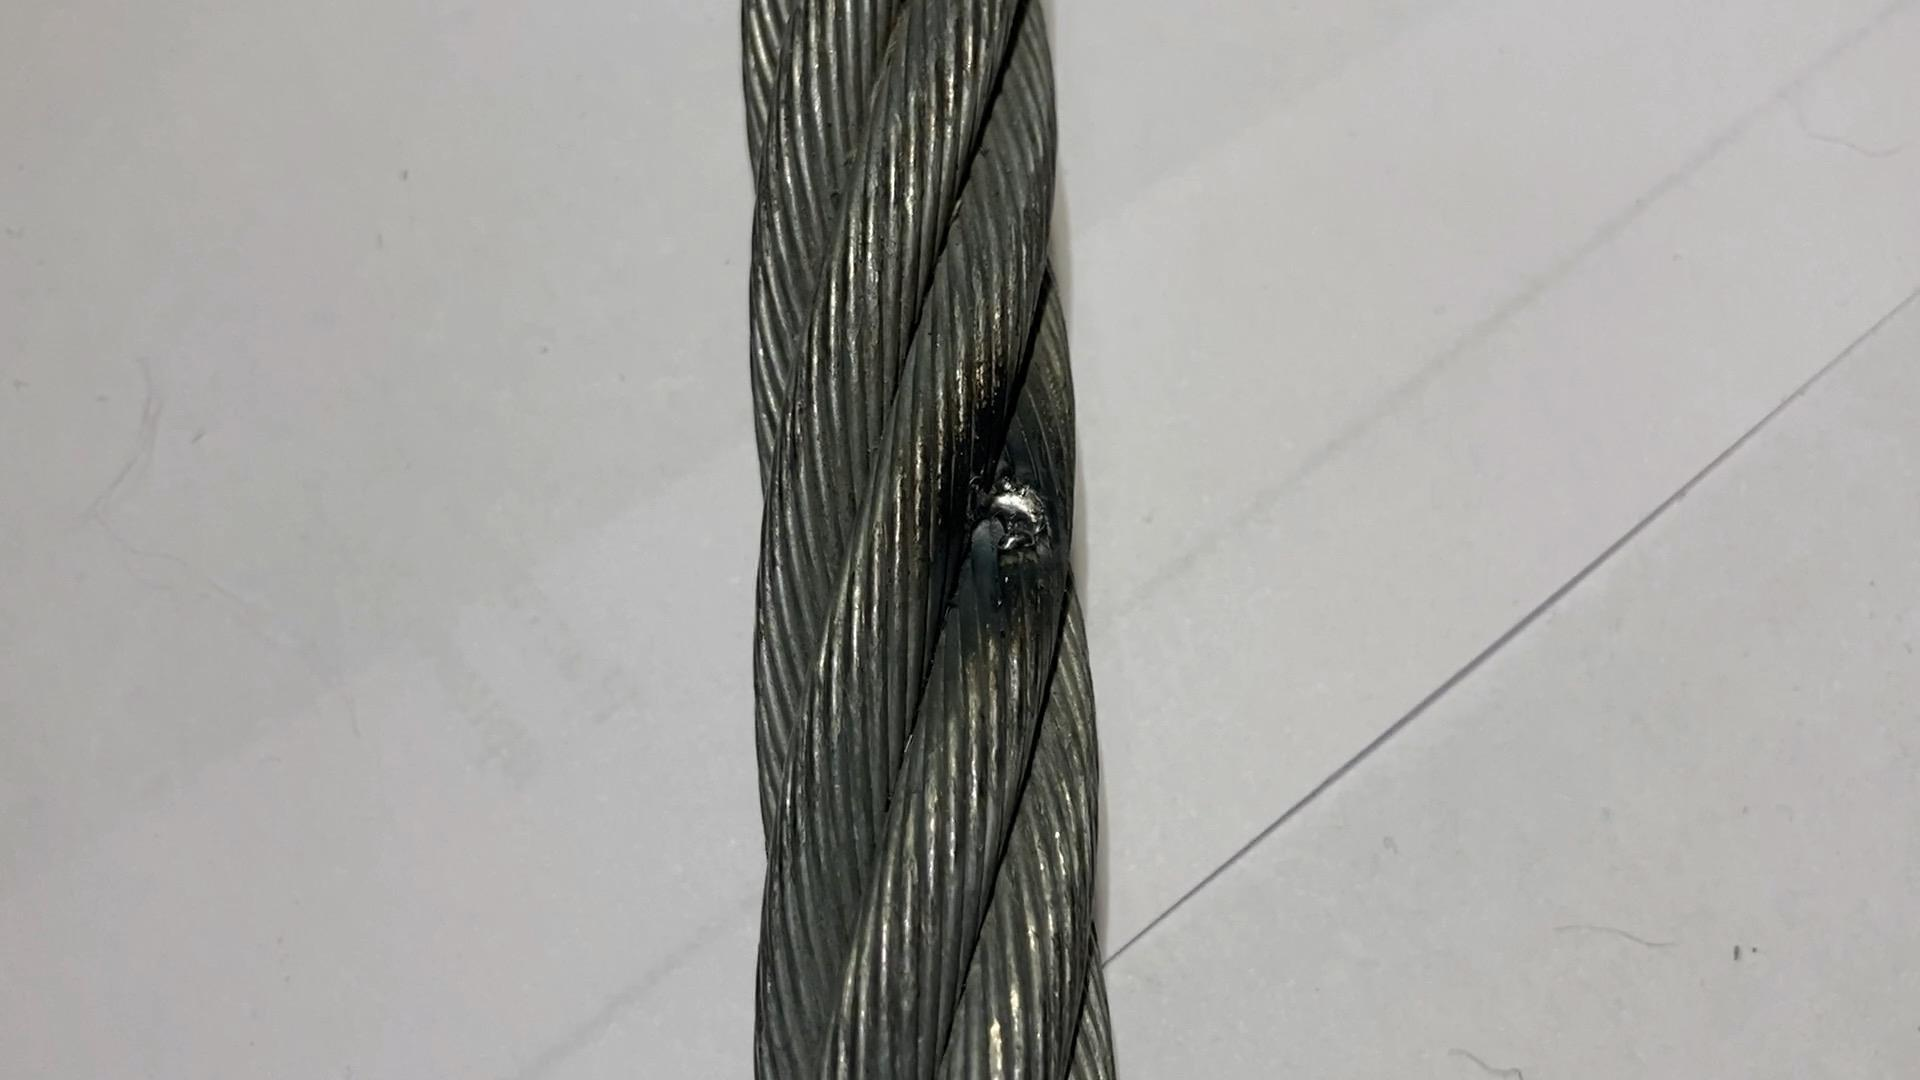thunderbolt: (945, 454, 1101, 589)
